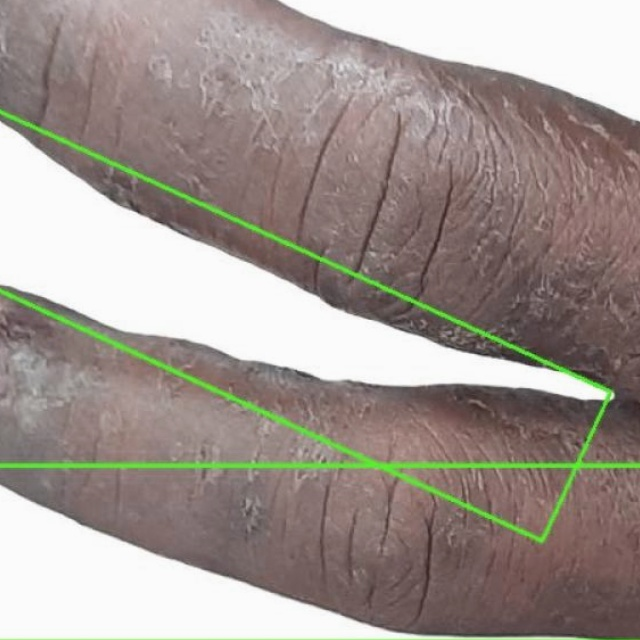Eczema: (0, 0, 639, 639), (0, 79, 617, 541), (0, 465, 639, 639)
